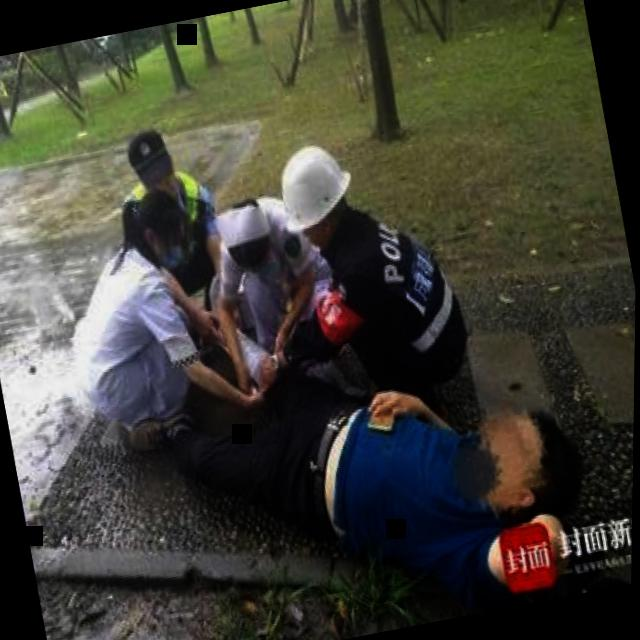Fall-Detected: (128, 293, 615, 640)
